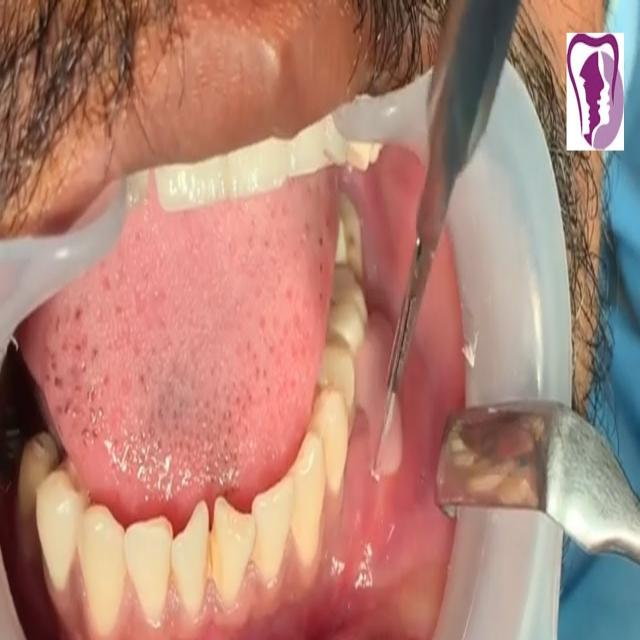abscess: (359, 353, 414, 493)
